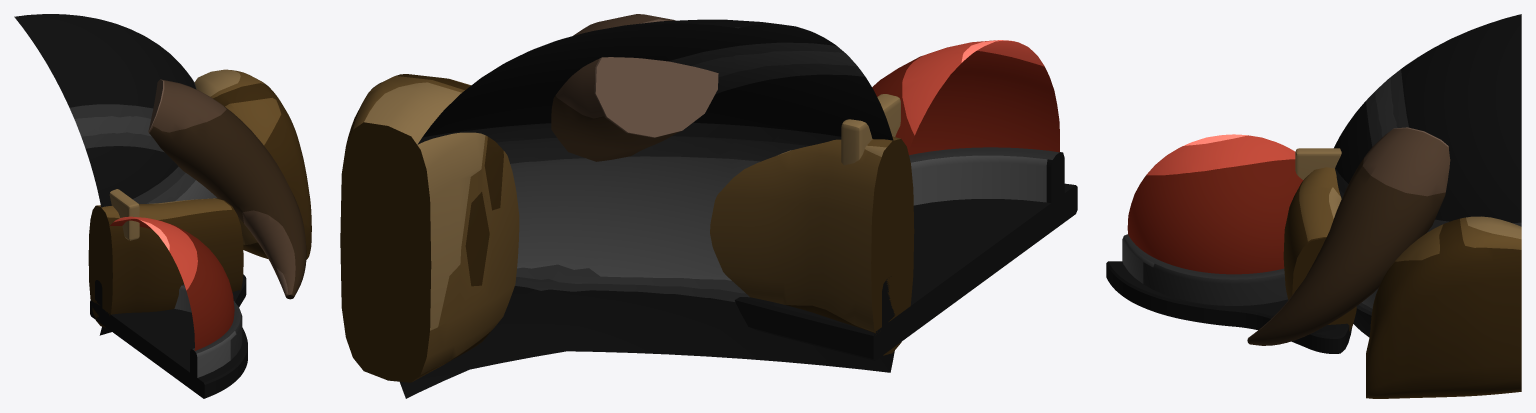
Rendered from claw_orb_br_83.glb.
3 views of the same model, side by side, from view 1: azimuth 30°, elevation 25°; view 2: azimuth 150°, elevation 25°; view 3: azimuth 270°, elevation 25° (orthographic). The views are drawn at different scales.
Visible parts, largest first — view 1: claw_orb_br_83; view 2: claw_orb_br_83; view 3: claw_orb_br_83.
Part boxes in pixels (box(x1,y1,x2,y2)): claw_orb_br_83: box(14, 14, 311, 398); claw_orb_br_83: box(340, 14, 1077, 398); claw_orb_br_83: box(1106, 14, 1521, 398).
Size of the model in its own units: 18.16 by 18.69 by 25.09.
